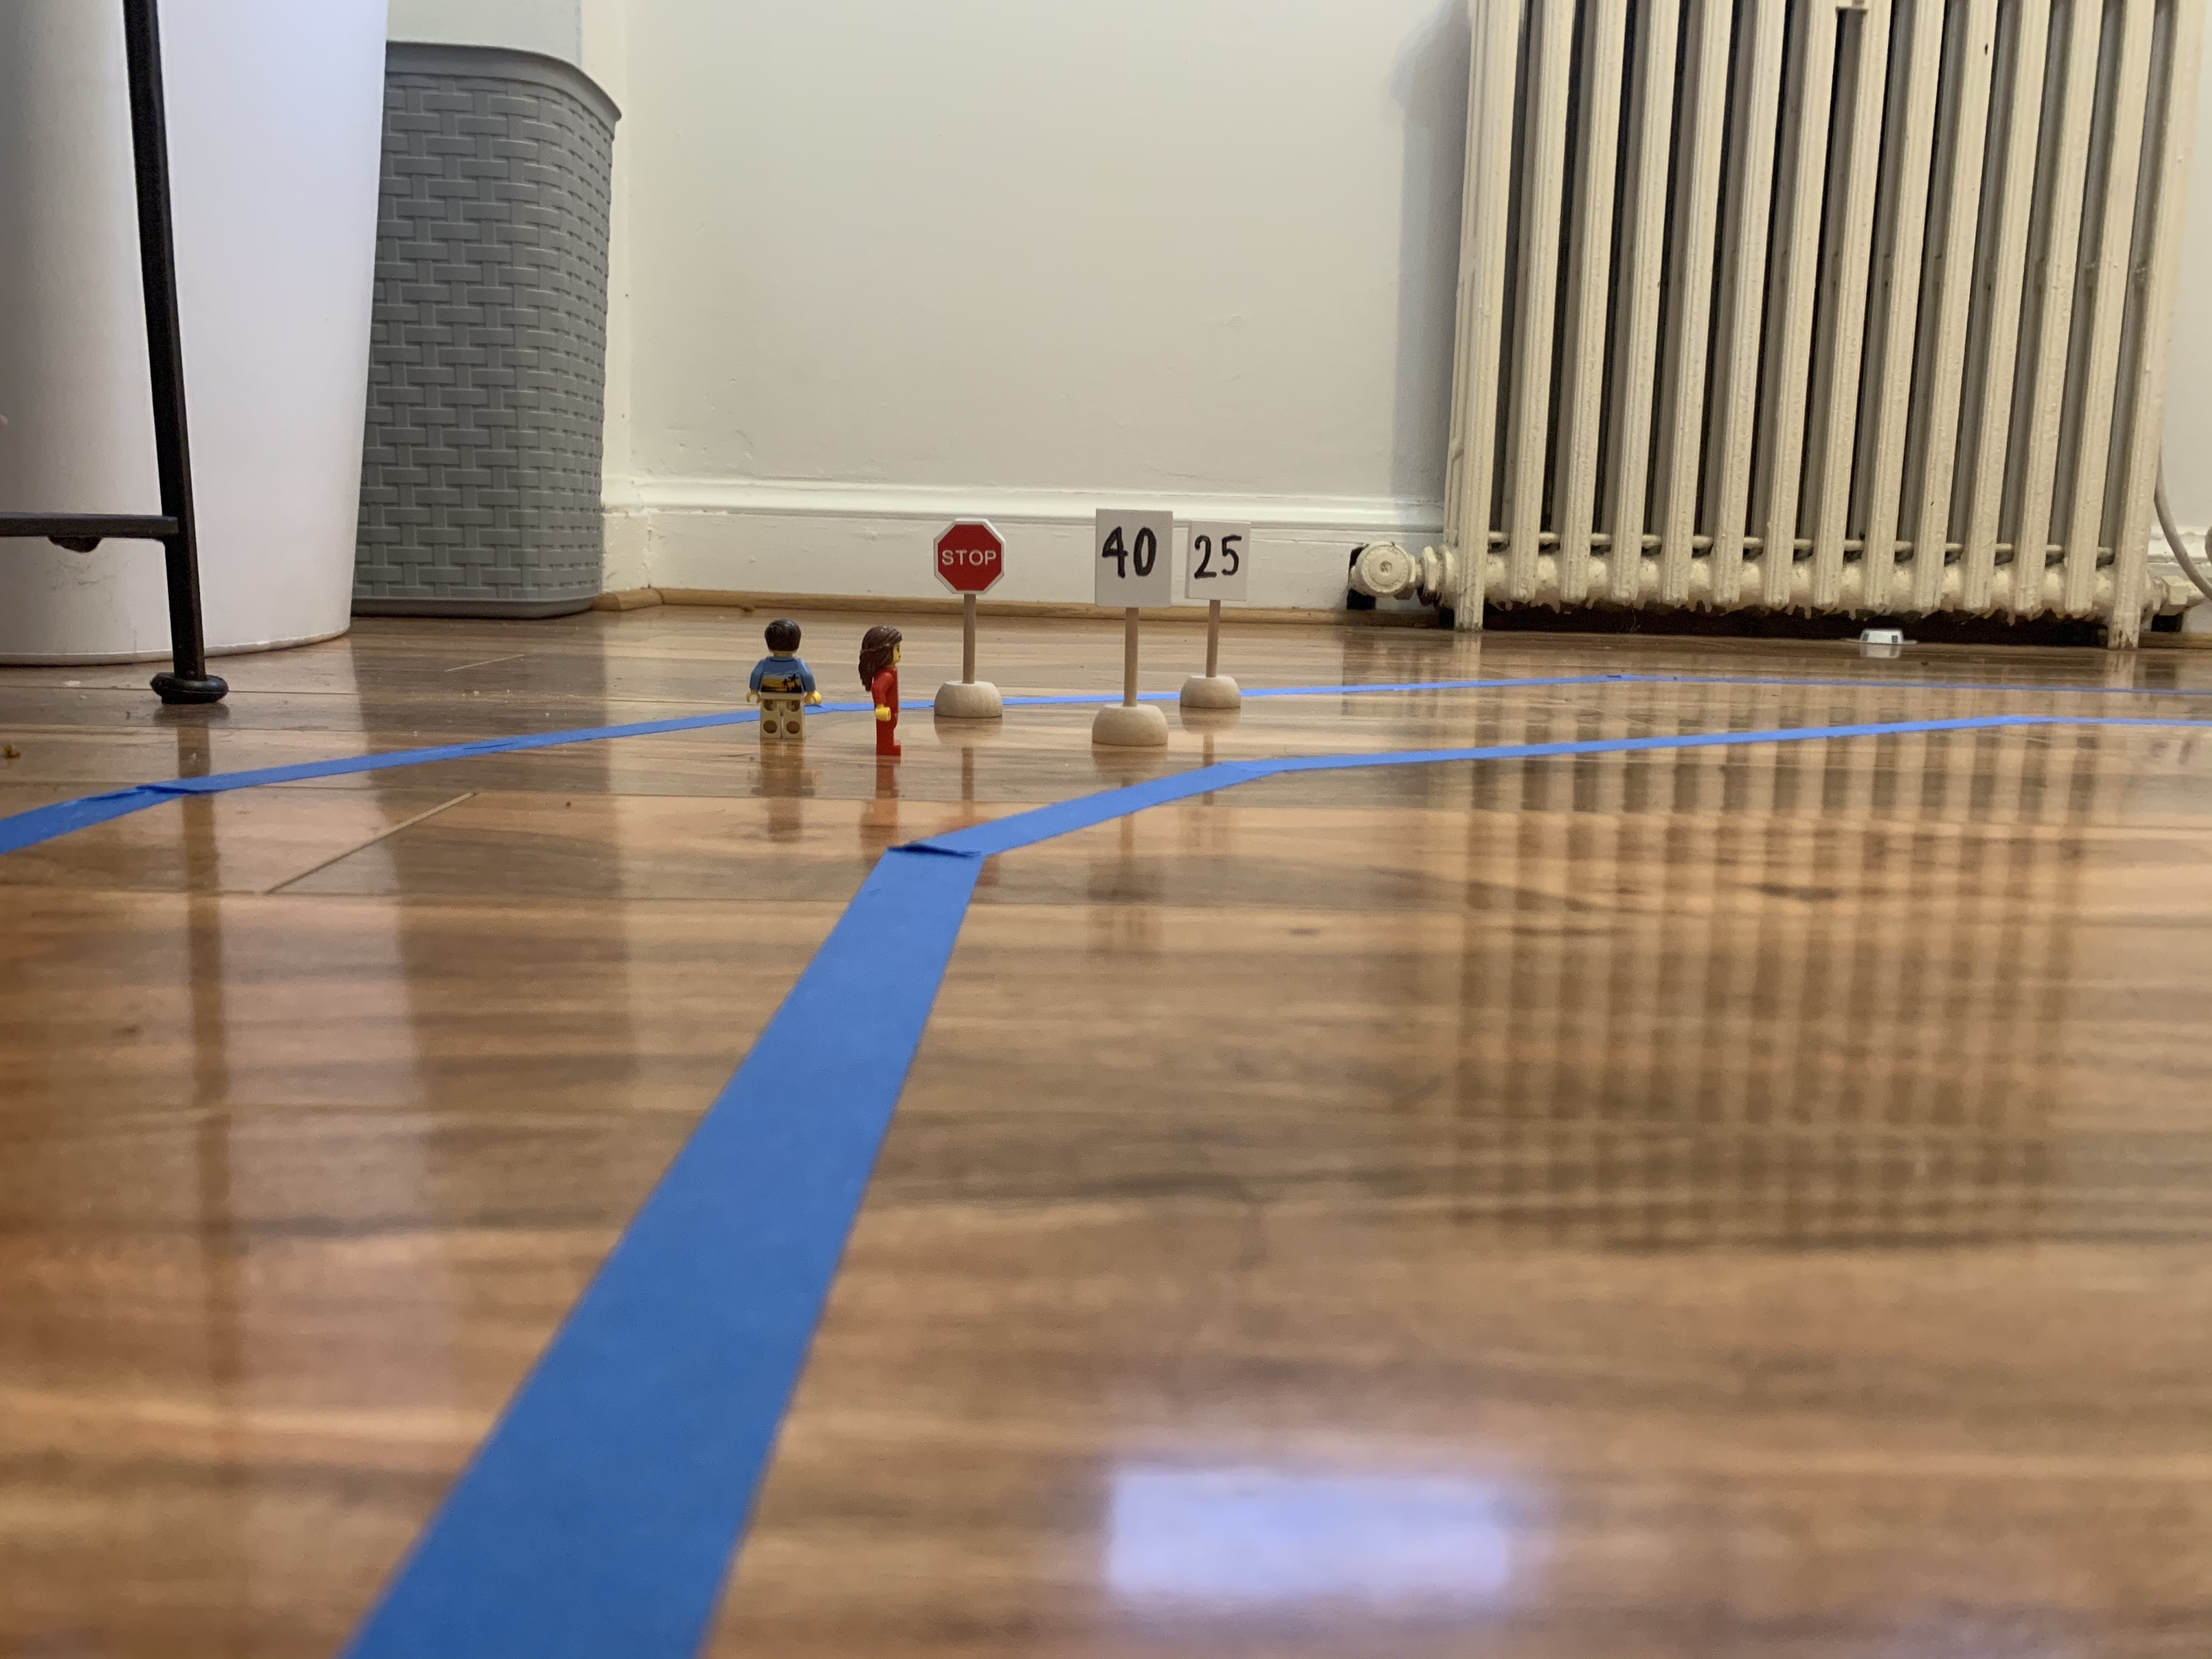Person: (845, 620, 918, 774), (746, 617, 825, 753)
Speed Limit 25: (1188, 524, 1245, 594)
Speed Limit 40: (1100, 509, 1171, 609)
Stop Sign: (930, 510, 1004, 600)
